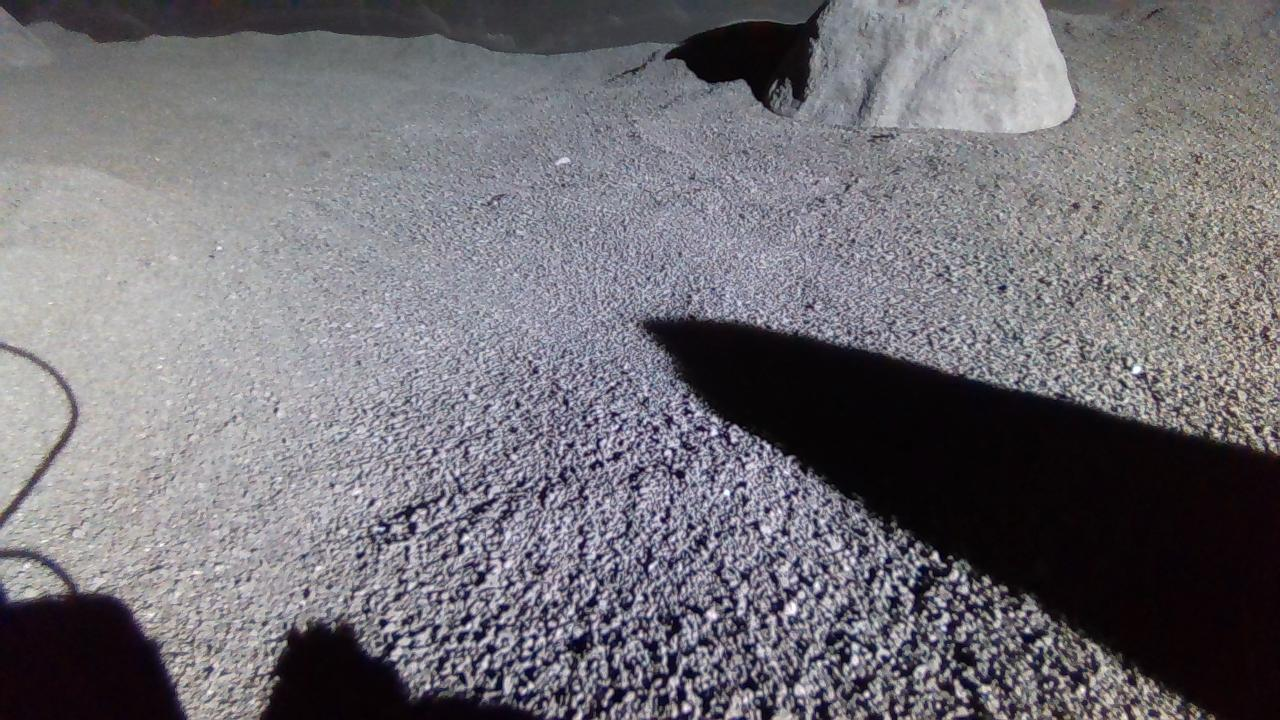rock: (768, 0, 1078, 132), (0, 6, 51, 66)
